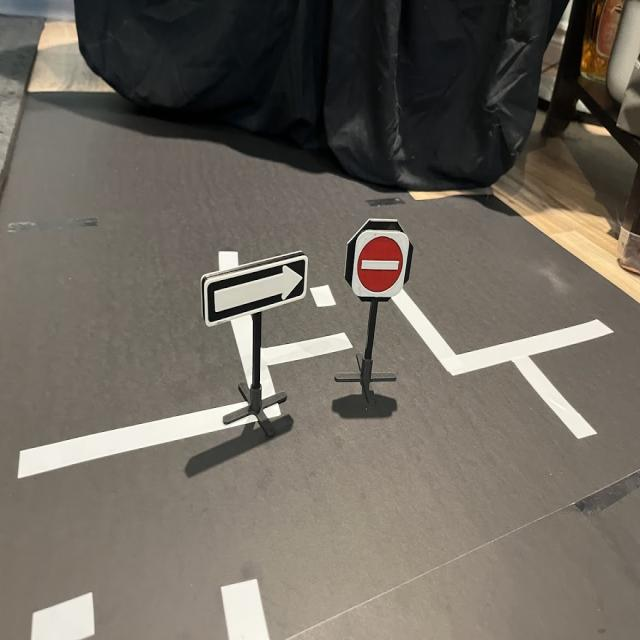sign_noentry: (348, 225, 412, 301)
sign_oneway_right: (202, 246, 309, 332)
